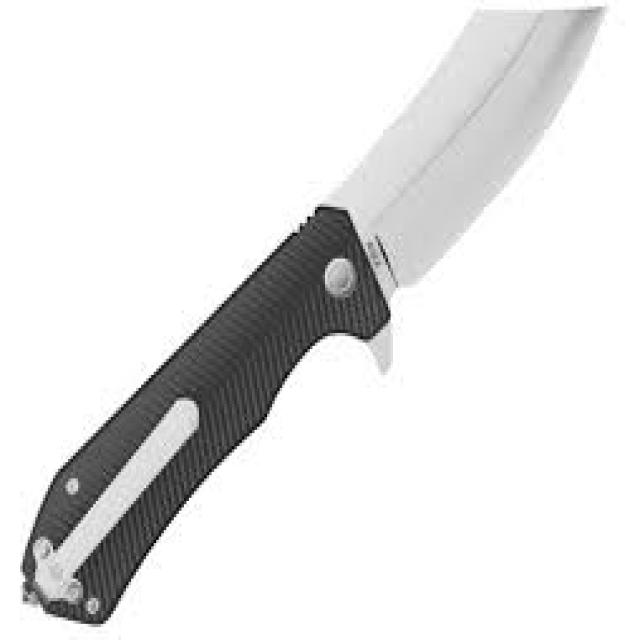knives: (15, 0, 612, 630)
